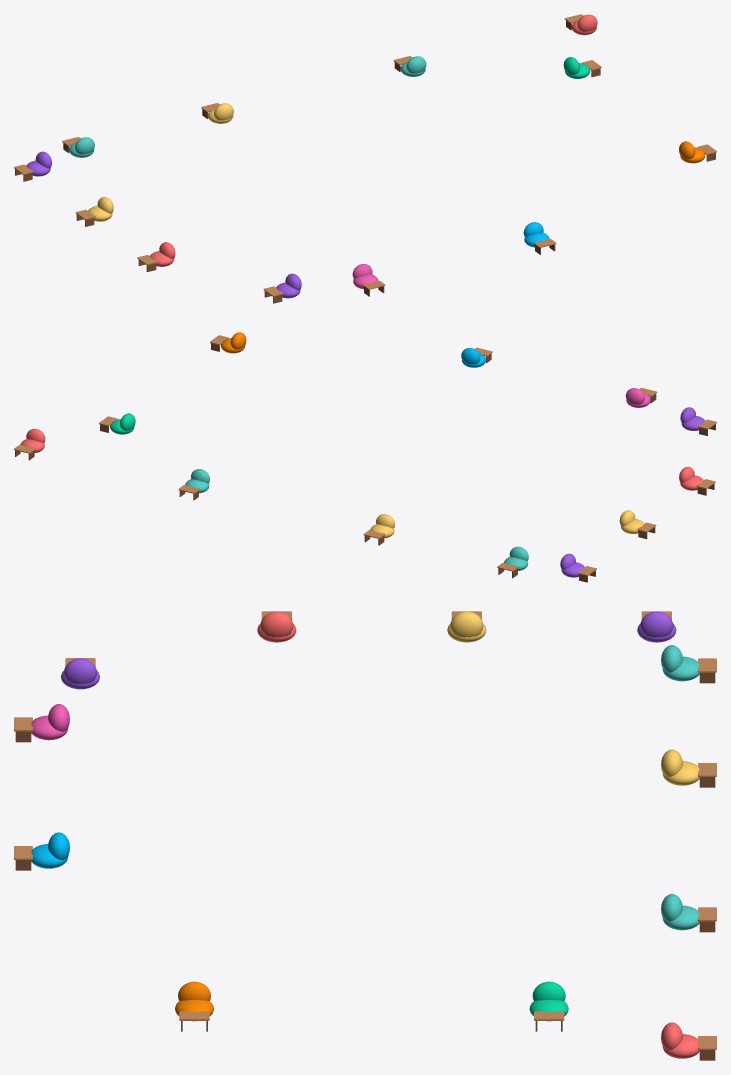
File: posti_aggiuntivi.glb
The picture shows the model from 3 angles, top to bottom: view 1: azimuth 30°, elevation 25°; view 2: azimuth 150°, elevation 25°; view 3: azimuth 270°, elevation 25°; orthographic projection. The views are drawn at different scales.
Parts seen in each view (by area): view 1: no part large enough to name; view 2: beanbag-3__chair; view 3: beanbag-2__chair, beanbag-10__chair, beanbag-5__chair, beanbag-6__chair, beanbag-12__chair, beanbag-1__chair, beanbag-7__chair, beanbag-8__chair, beanbag-3__chair, beanbag-4__chair, beanbag-9__chair, beanbag-11__chair.
Boxes of the visible parts, x1,y1,x2,y2 form: beanbag-3__chair: [560, 553, 584, 577]; beanbag-2__chair: [661, 894, 699, 930]; beanbag-10__chair: [661, 645, 699, 681]; beanbag-5__chair: [31, 704, 69, 740]; beanbag-6__chair: [31, 832, 69, 868]; beanbag-12__chair: [661, 749, 699, 785]; beanbag-1__chair: [661, 1022, 699, 1058]; beanbag-7__chair: [529, 981, 568, 1021]; beanbag-8__chair: [175, 981, 213, 1021]; beanbag-3__chair: [637, 611, 676, 642]; beanbag-4__chair: [447, 611, 486, 642]; beanbag-9__chair: [257, 611, 296, 642]; beanbag-11__chair: [61, 658, 99, 689].
Bounding box in the file's own units: 32.82 × 1.1 × 22.2.
